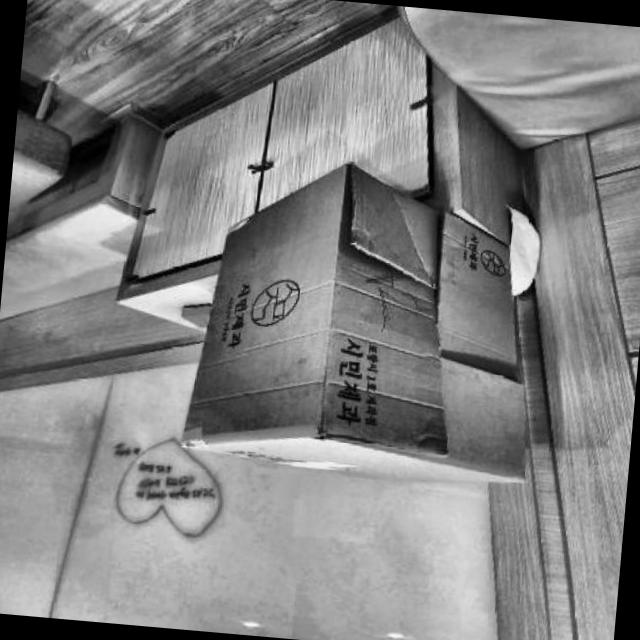box: (166, 142, 560, 507)
